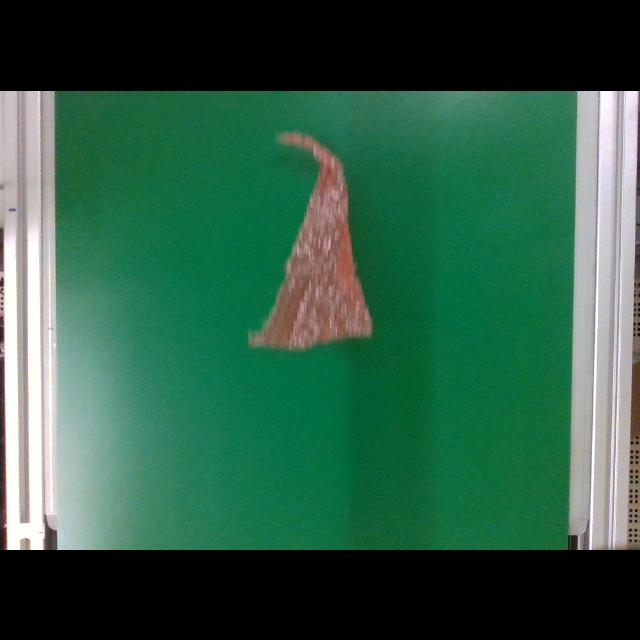scrap_plastic: (242, 123, 376, 351)
